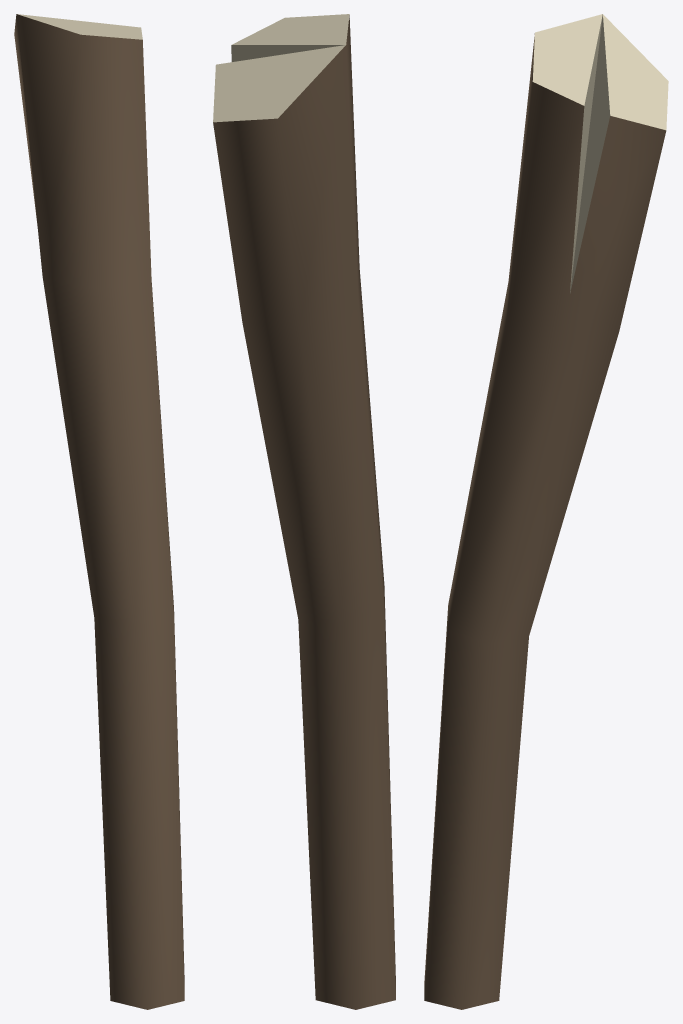
The model's file is P_Fence_05_LD.fbx.
3 renders of one model, left to right at view 1: azimuth 30°, elevation 25°; view 2: azimuth 150°, elevation 25°; view 3: azimuth 270°, elevation 25°, orthographic. The views are drawn at different scales.
Parts seen in each view (by area): view 1: P_Fence_05; view 2: P_Fence_05; view 3: P_Fence_05.
Boxes of the visible parts, box(x1,y1,x2,y2) form: P_Fence_05: box(14, 14, 184, 1009); P_Fence_05: box(213, 14, 395, 1009); P_Fence_05: box(424, 14, 668, 1009).
Size of the model in its own units: 18.63 by 143 by 33.47.
1 material, 1 textured.
